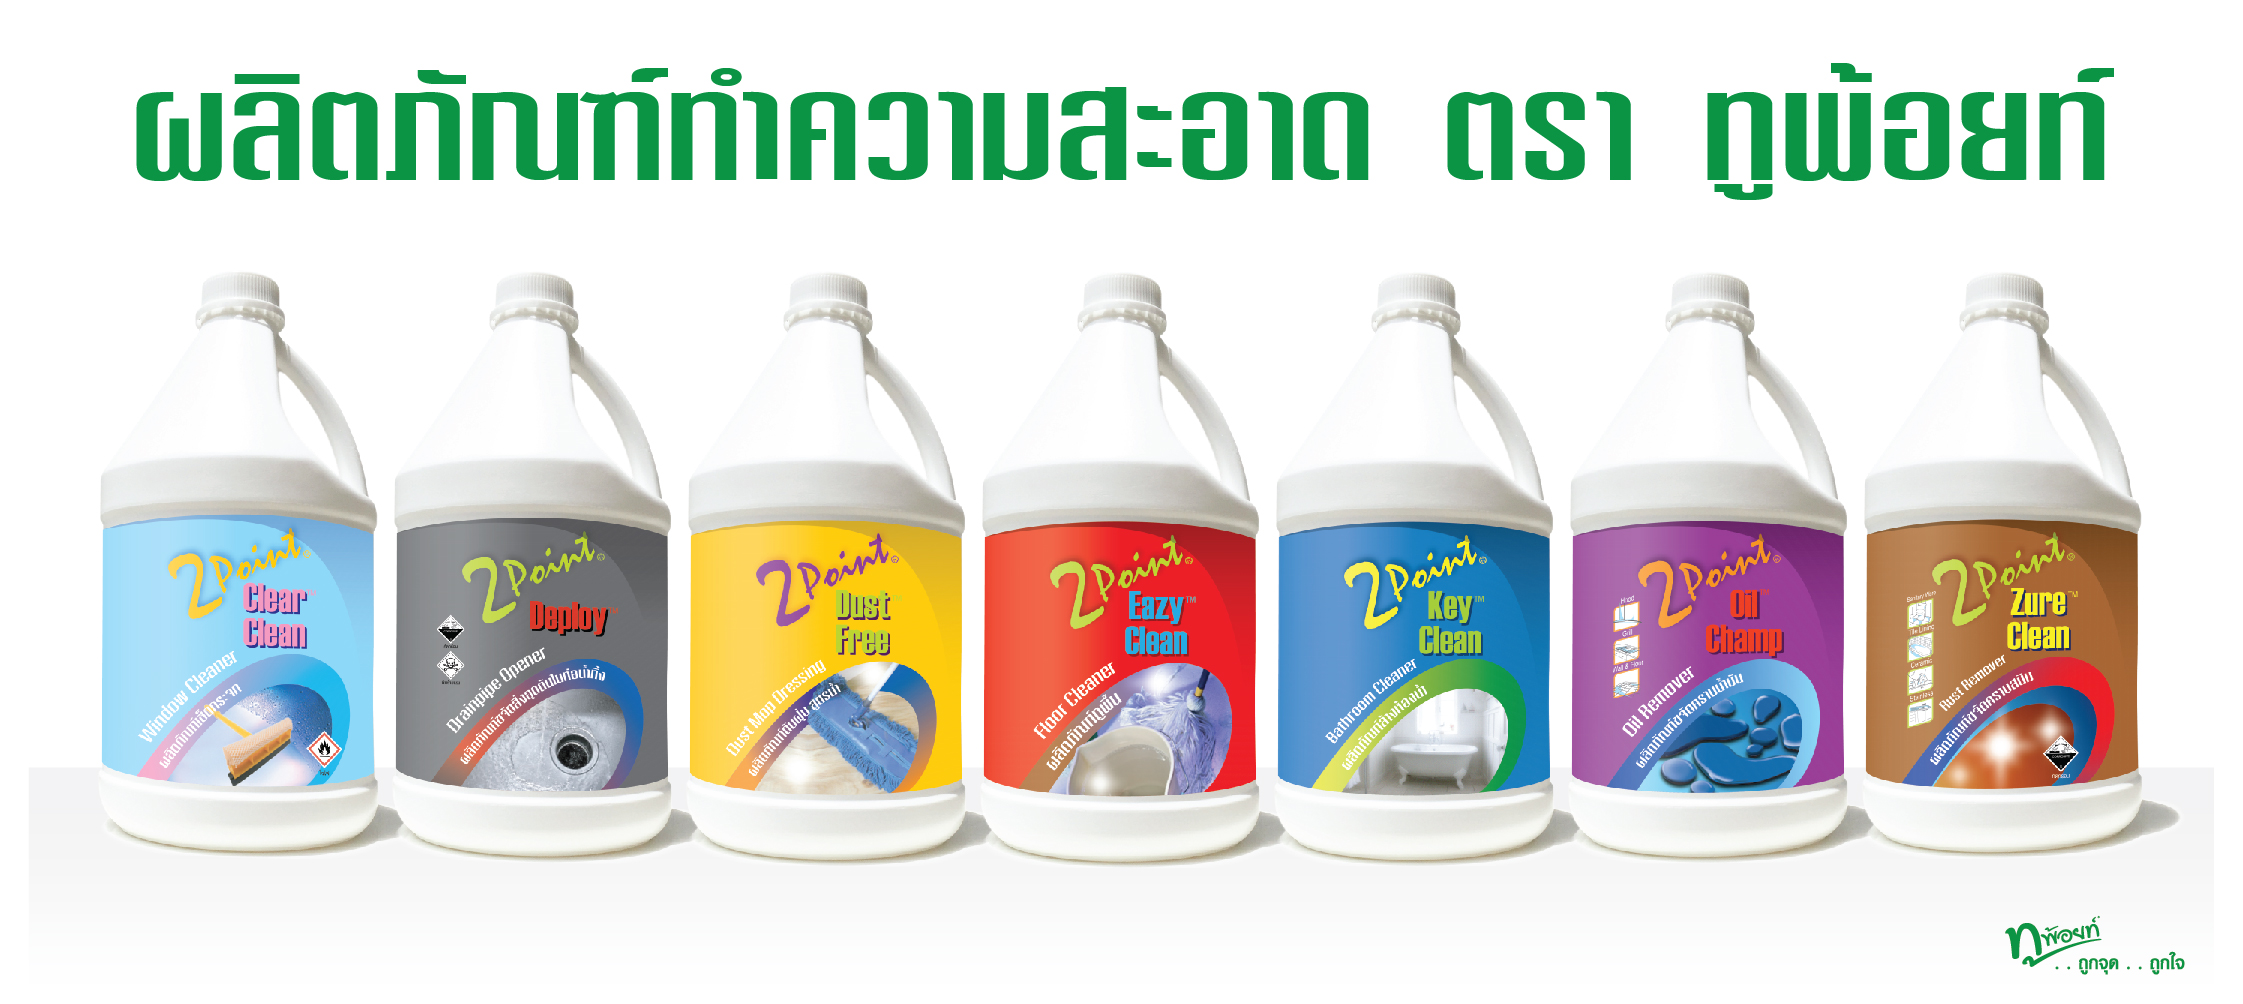Cleaning_solution: (674, 265, 976, 870), (973, 260, 1272, 867), (92, 266, 395, 864), (382, 263, 677, 864), (1561, 257, 1852, 862), (1855, 269, 2153, 858), (1273, 263, 1559, 867)
